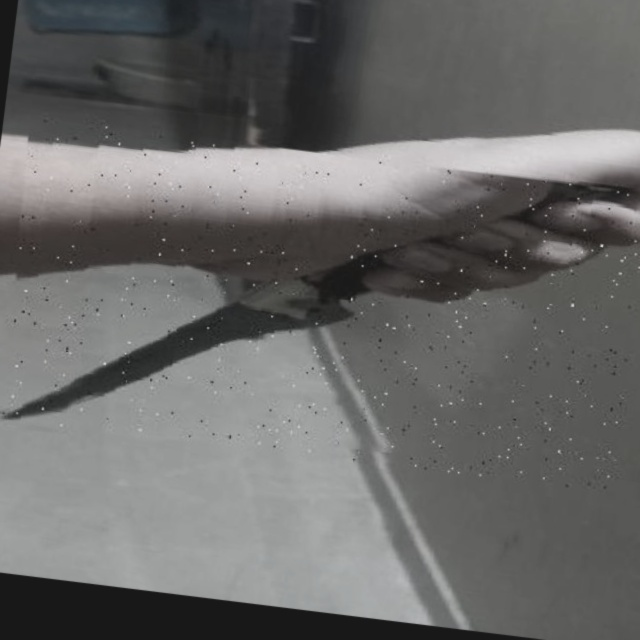Sharp-Object: (0, 117, 640, 494)
